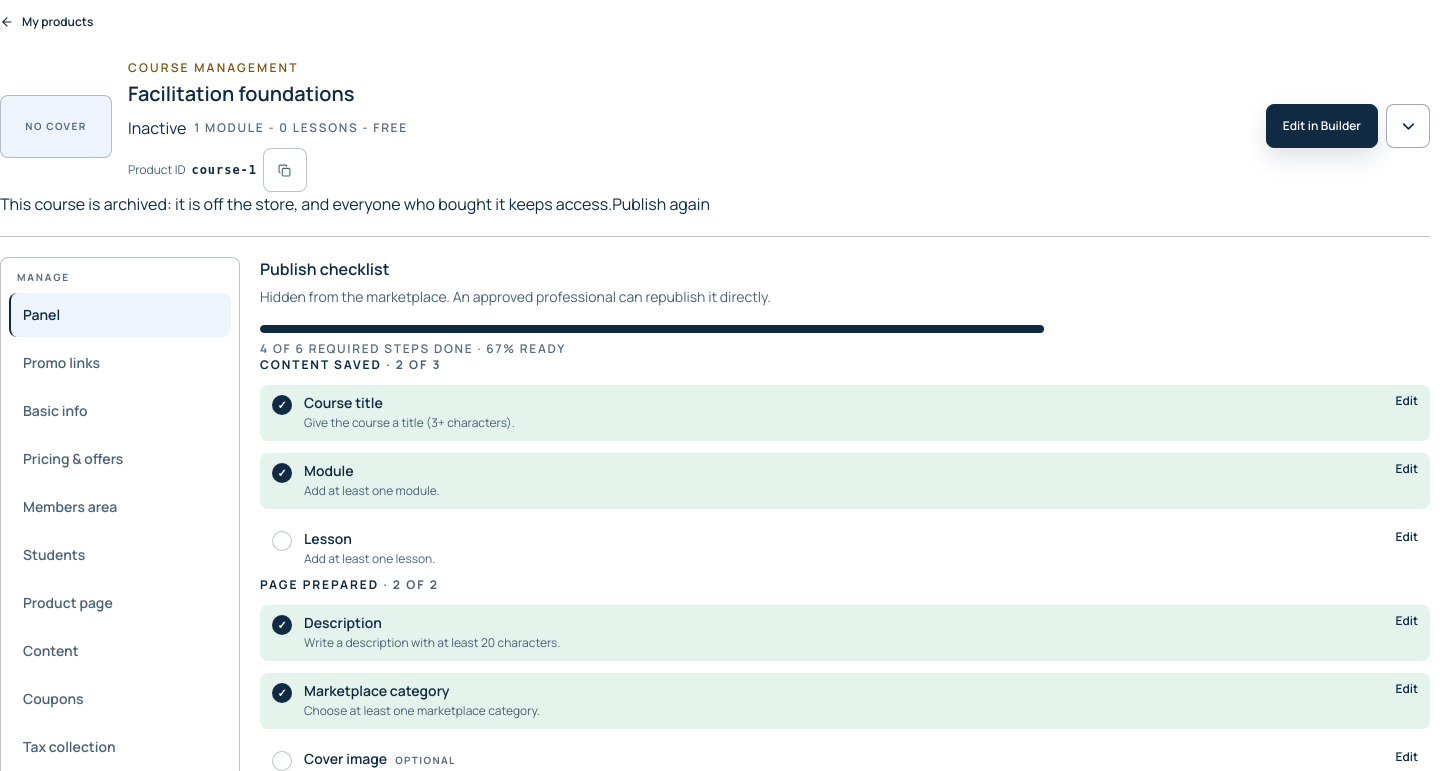
it: o que acontece depois da ação › arquivado, o hub continua de pé e mostra como republicar
This screenshot has width=1440, height=771.
Click the button named "More actions for Facilitation foundations".
click(1408, 126)  # box [1386,104,1430,148]
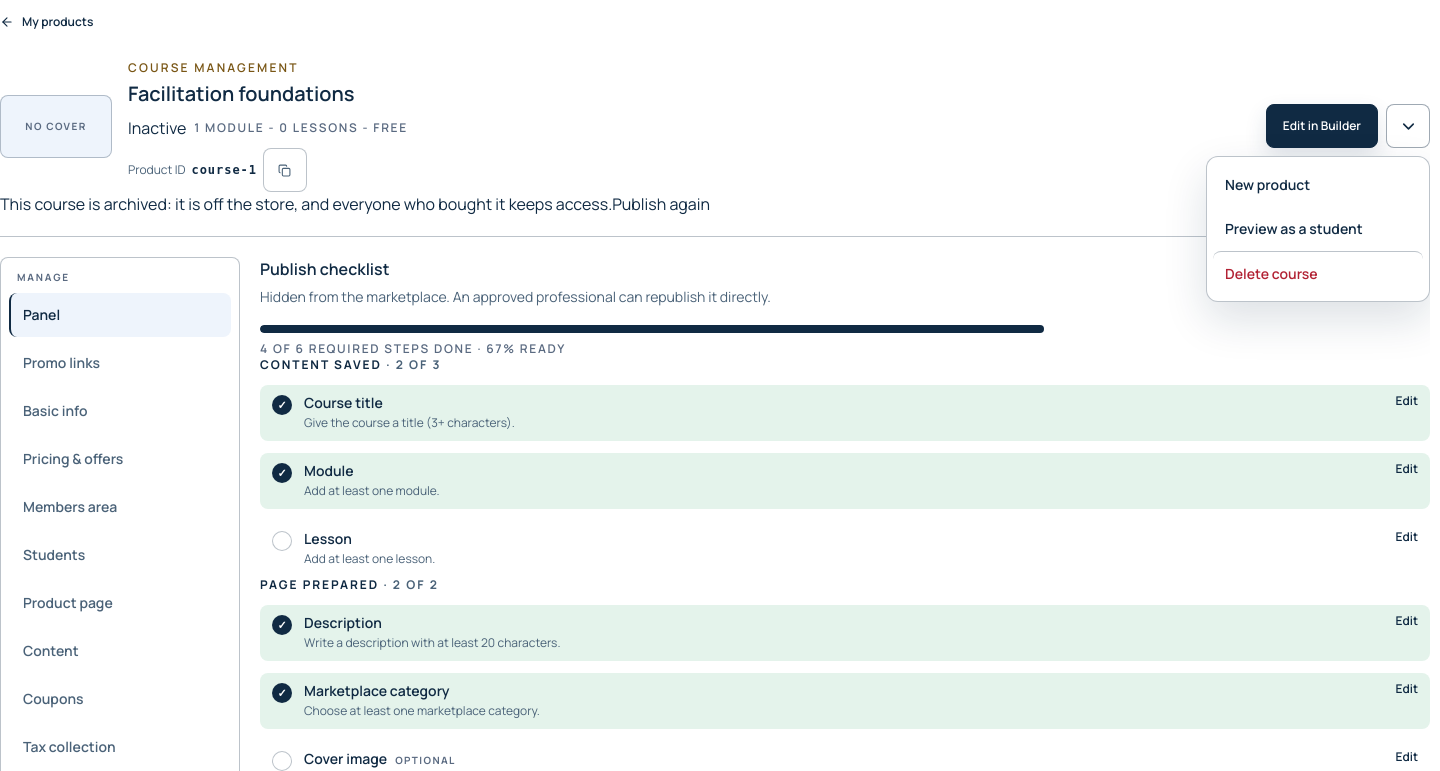
Click the menu item "Delete course".
click(1318, 273)  # box [1213,251,1423,295]
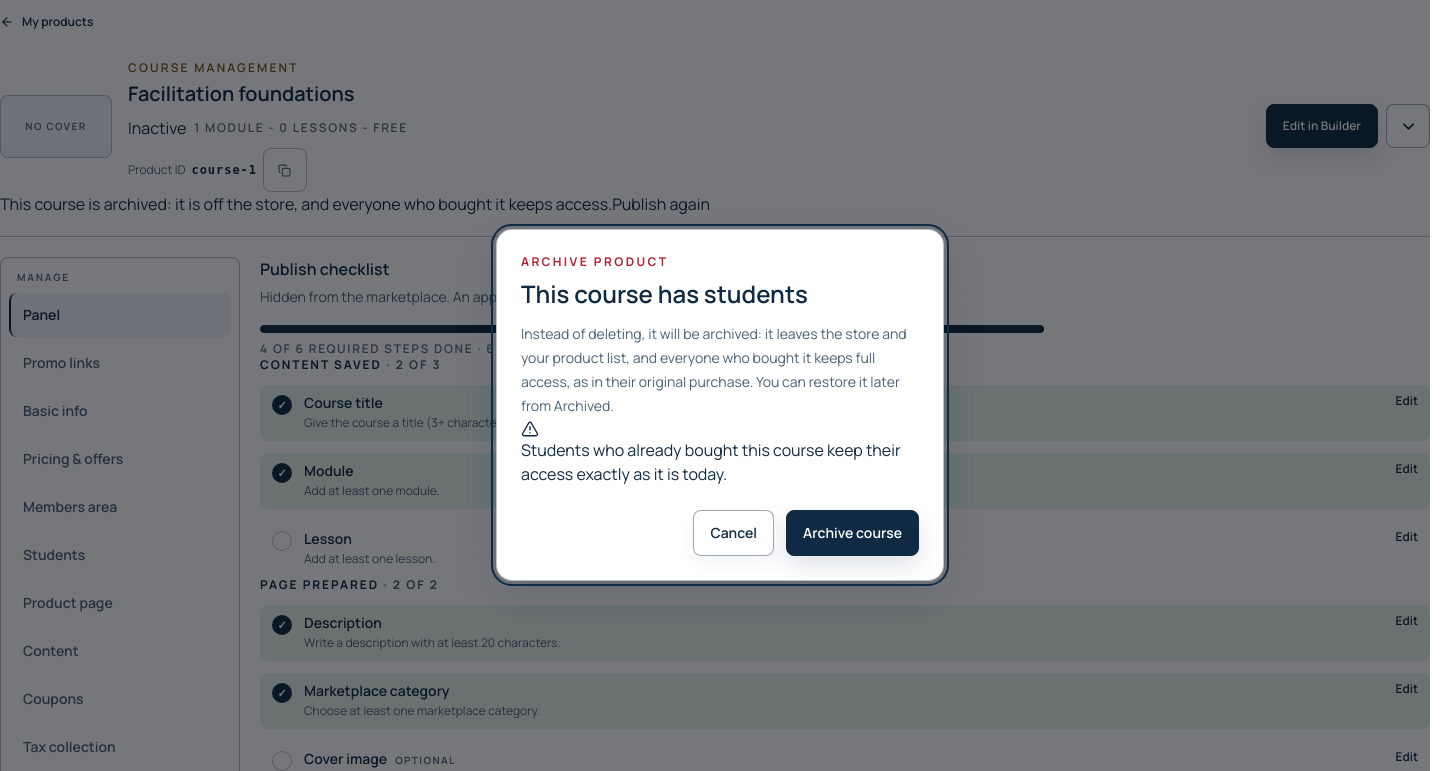
Click the button "Archive course".
click(852, 533)  # box [786,510,919,556]
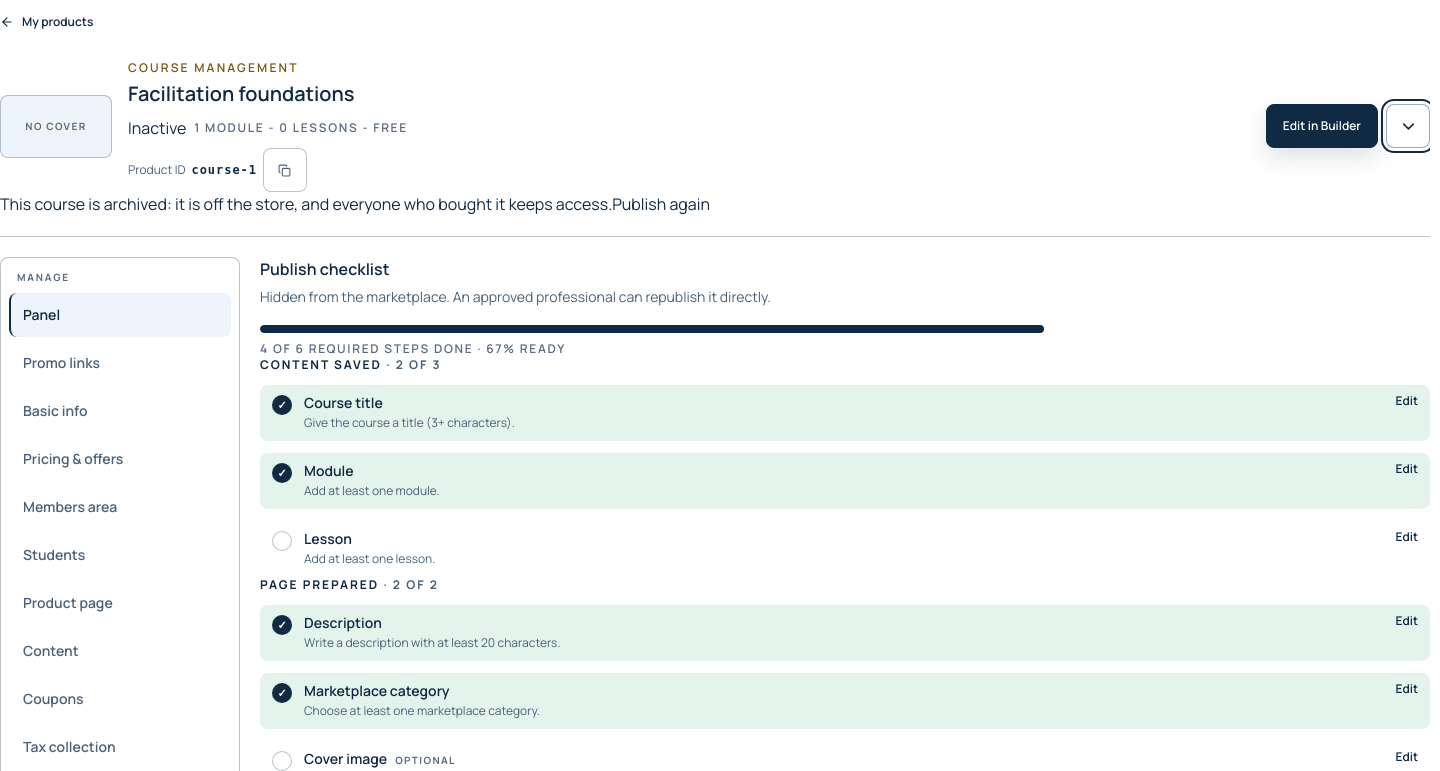
Expected: the heading "Facilitation foundations" is shown, [128,80,354,107]
Expected: the dialog is gone
